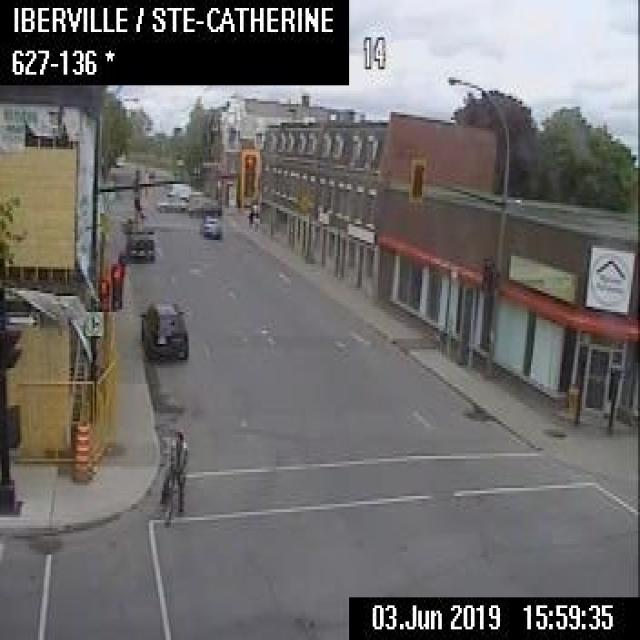construction: (69, 422, 91, 482)
cyclist: (157, 429, 187, 524)
pedestrian: (107, 251, 124, 309), (251, 204, 258, 228), (246, 205, 252, 228)
vehicle: (139, 298, 187, 363), (120, 212, 154, 259), (156, 190, 188, 210), (187, 198, 220, 215), (200, 214, 220, 237)
